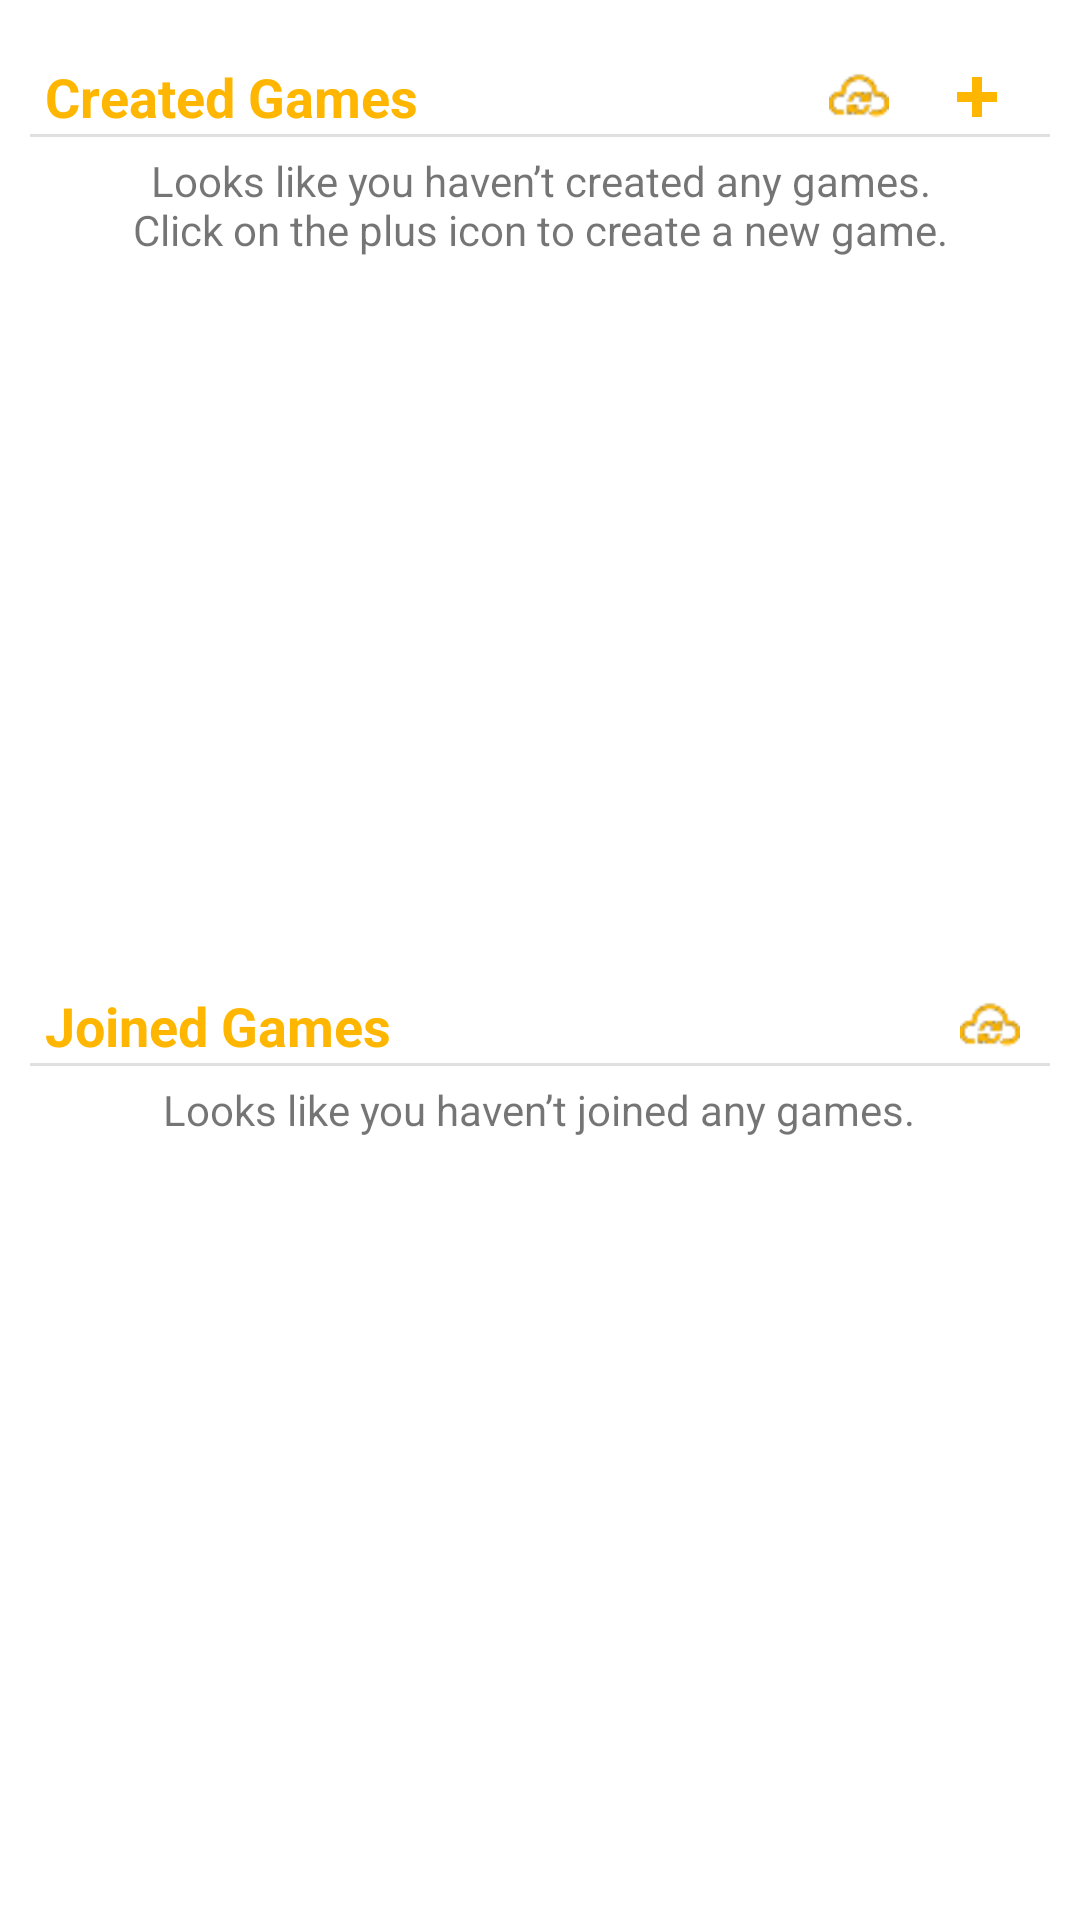

Named icons in this screenshot (1080w x 1920h) and their bounding boxes, (x1, y1, x2, y2):
plus theme: (957, 77, 997, 117)
